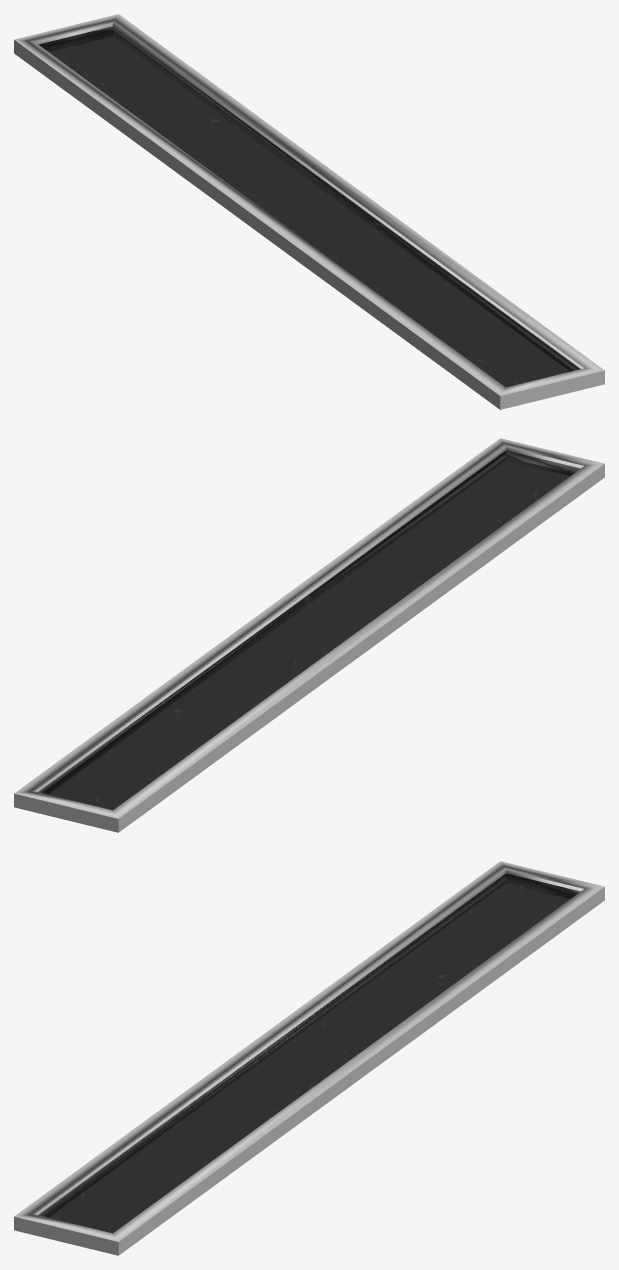
Rendered from glass_hx4.fbx.
3 views of the same model, one above another, from view 1: azimuth 30°, elevation 25°; view 2: azimuth 150°, elevation 25°; view 3: azimuth 330°, elevation 25° (orthographic).
Visible parts, largest first — view 1: glass_hx4; view 2: glass_hx4; view 3: glass_hx4.
Part boxes in pixels (x1=…): glass_hx4: x1=14, y1=14, x2=604, y2=409; glass_hx4: x1=14, y1=438, x2=604, y2=832; glass_hx4: x1=14, y1=861, x2=604, y2=1255.
Bounding box in the file's own units: 20 × 2.5 × 160.
